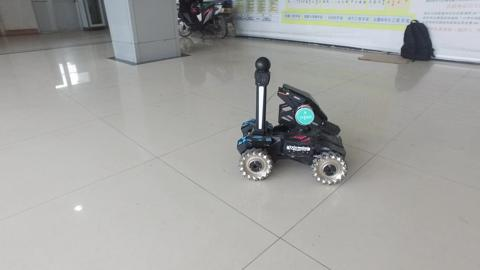bag: (398, 18, 436, 63)
chariot: (235, 55, 348, 185)
